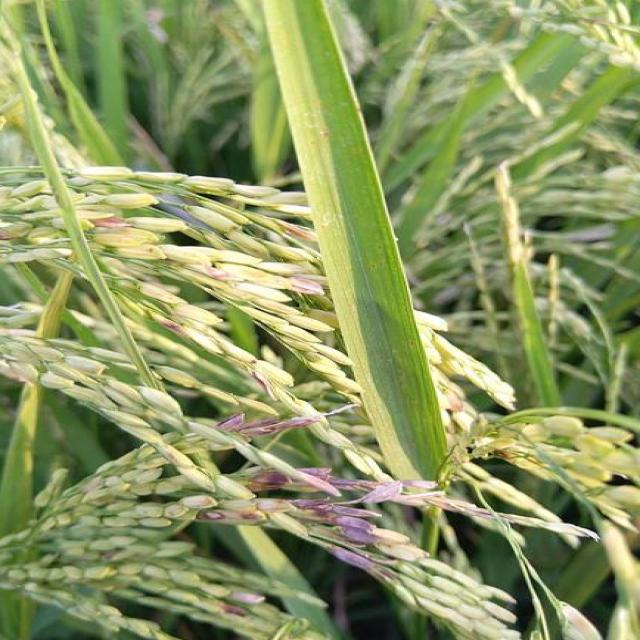Panicle Blight: (165, 466, 467, 623), (217, 414, 317, 438), (78, 209, 146, 236), (476, 437, 532, 465), (215, 592, 265, 617), (276, 275, 324, 301), (279, 223, 310, 247), (0, 222, 25, 248), (249, 369, 273, 396), (155, 318, 186, 337)
